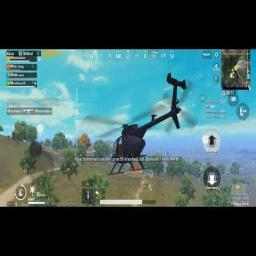helicopter: (90, 73, 196, 169)
